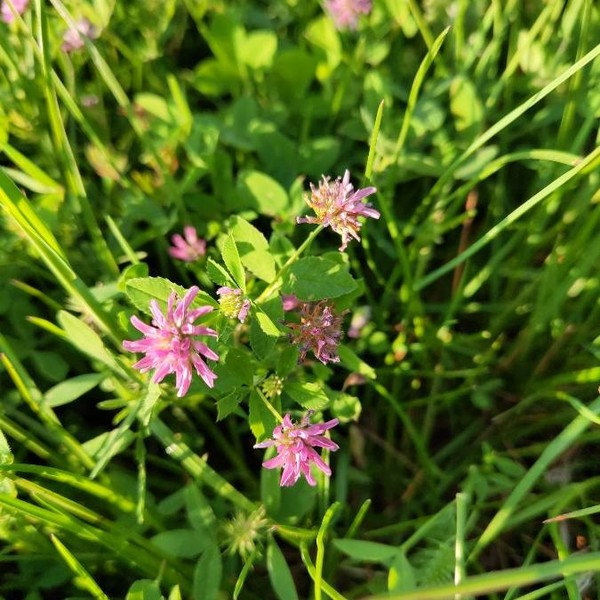obstacle: (86, 181, 389, 512), (129, 23, 553, 217), (379, 237, 566, 570)
